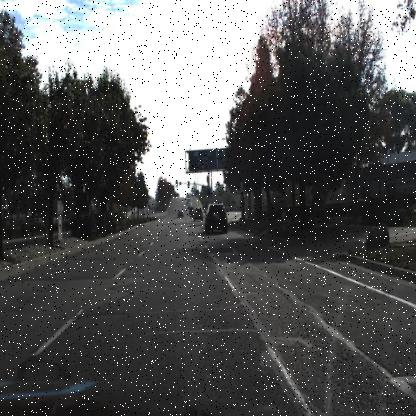car: (204, 202, 227, 234), (193, 202, 203, 225), (193, 207, 204, 222), (177, 208, 182, 220)
trafficLight-Green: (174, 178, 178, 188), (186, 180, 190, 188)
